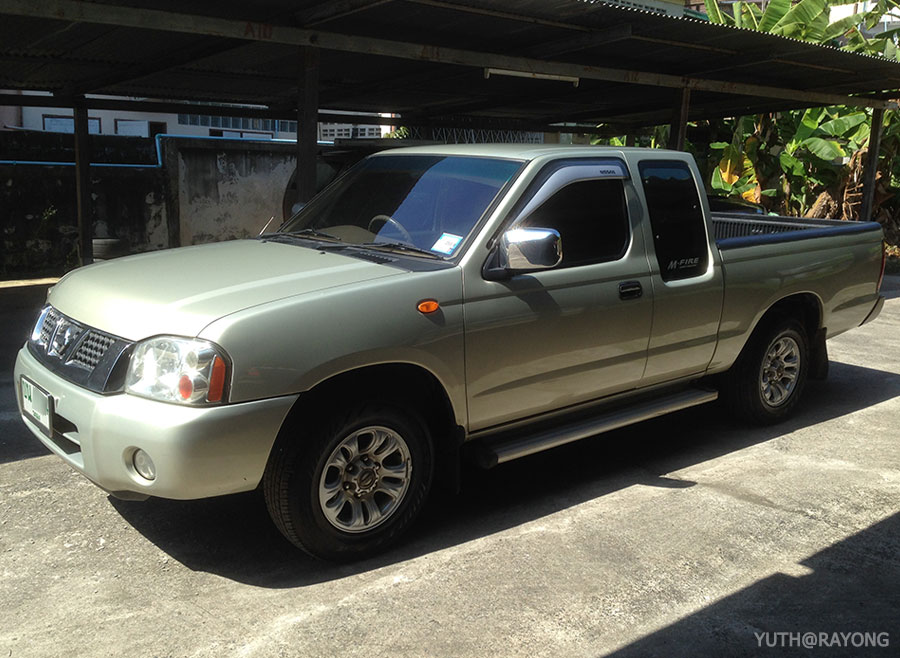pickup: (13, 135, 889, 563)
